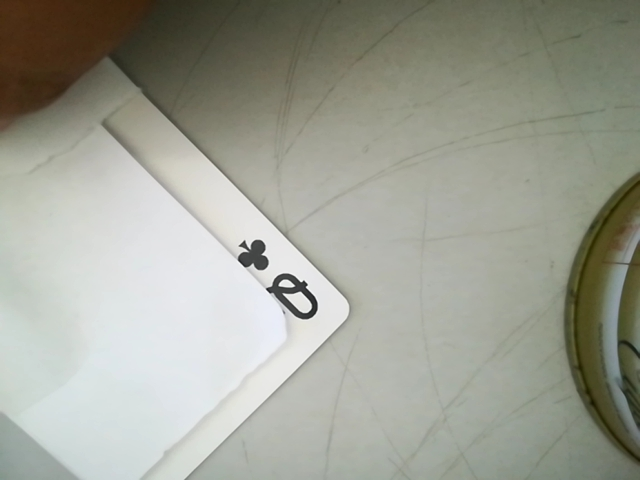mh q: (223, 223, 330, 330)
